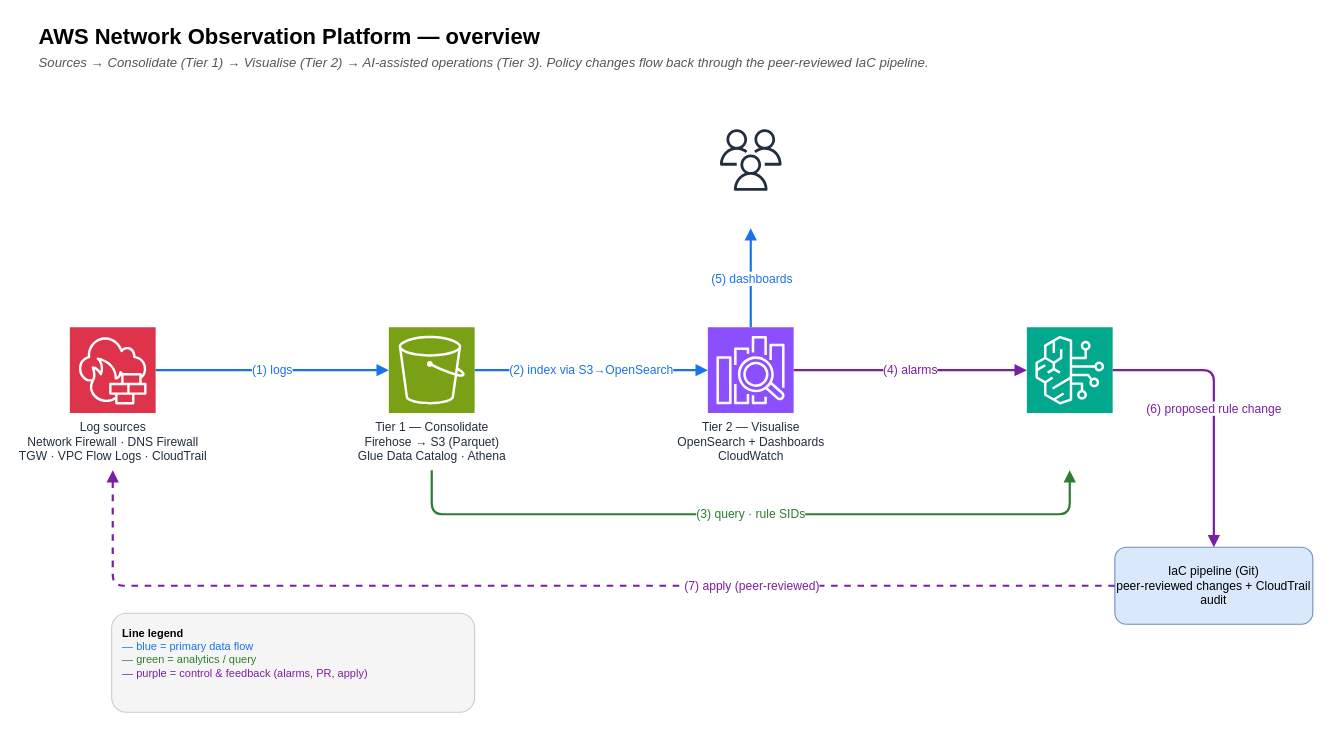
Image size: 1332x732. Some labels were removed from this diagram. The shapes that lost their labels are listed below. From the top down, each one's centre as x and y in pixels, then its label:
At (750,159): "Network & Security Engineering".
At (1069,369): "Tier 3 — AI-assisted ops Investigations · Rule-hygiene SNS".
